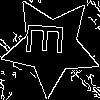E: (26, 20, 73, 58)
